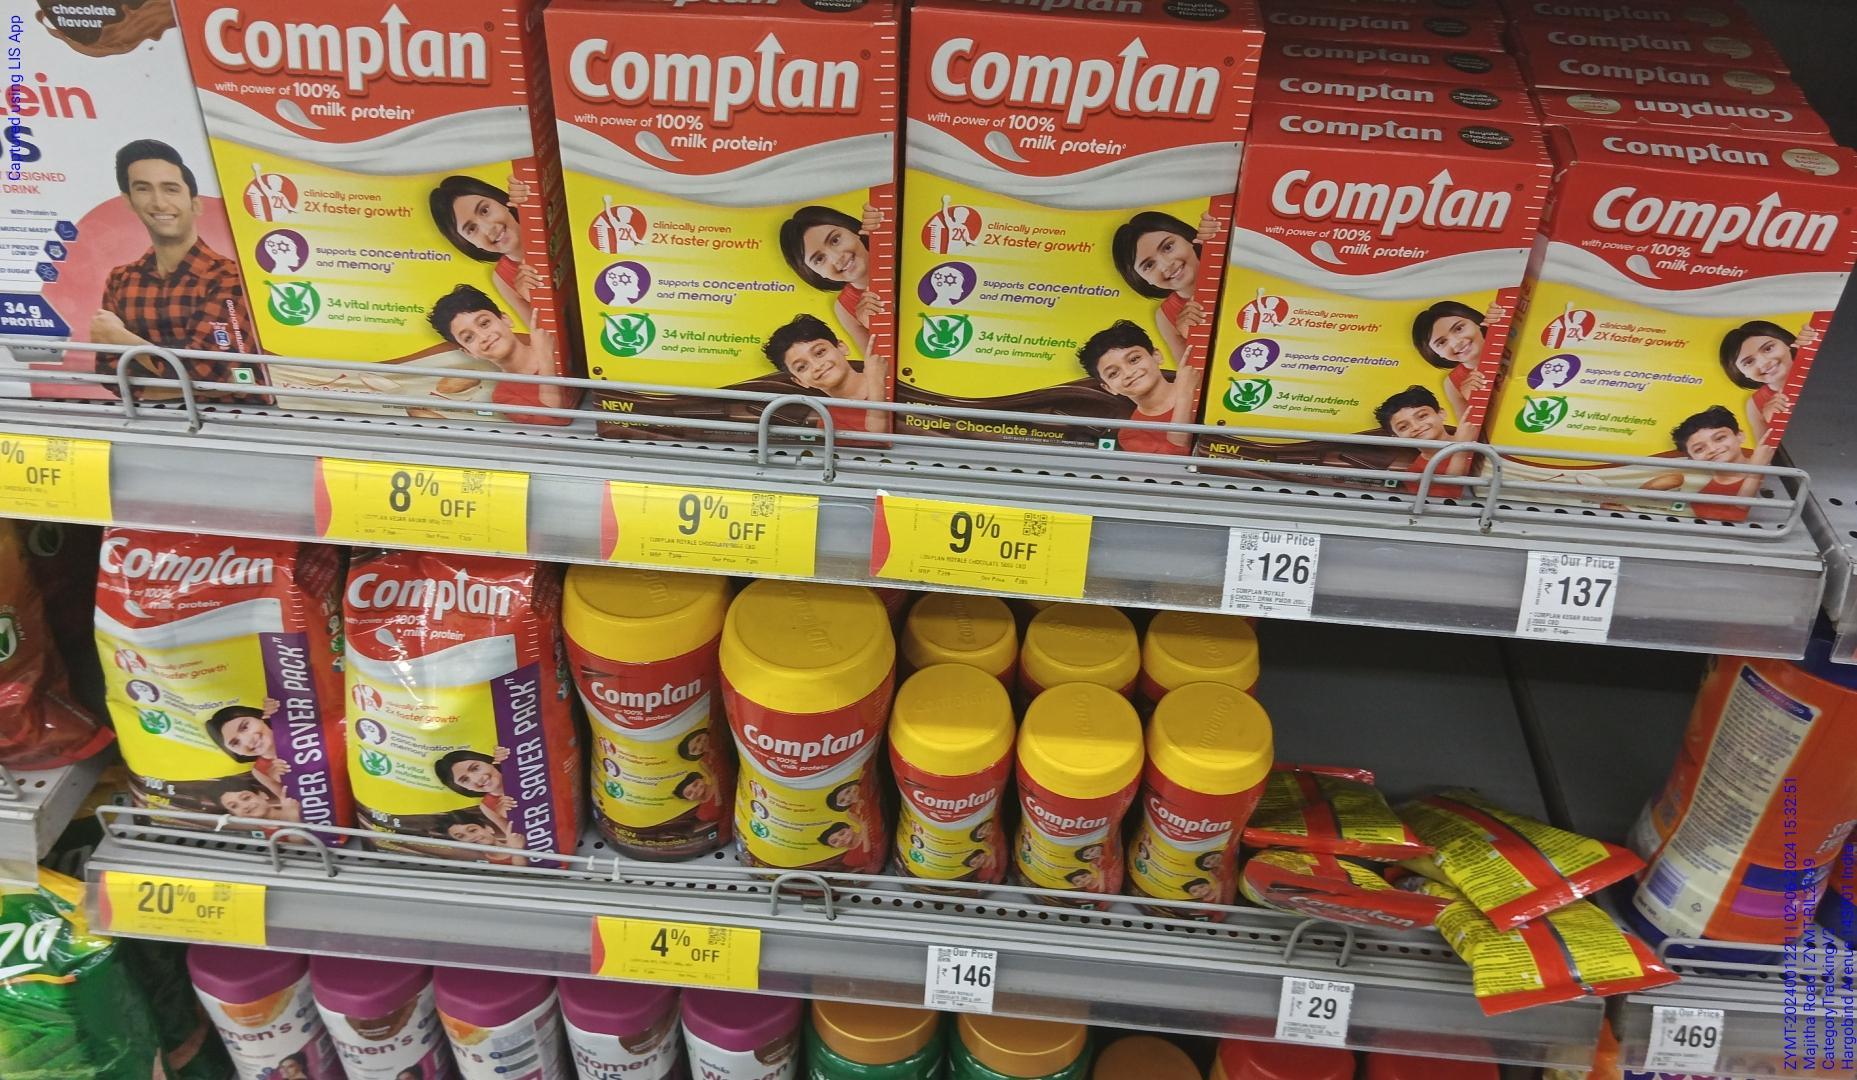COMPLAN_CHOCOLATE_200_GMS_JAR: (1140, 689, 1254, 922), (893, 696, 1011, 897), (1019, 707, 1128, 914)
COMPLAN_CHOCOLATE_500_GMS_JAR: (569, 591, 722, 858), (731, 635, 885, 890)
COMPLAN_KESAR_BADAM_200_GMS_PACK: (1528, 165, 1838, 514)
COMPLAN_RC_POUCH_700_GMS_12: (99, 531, 330, 859), (344, 552, 556, 886)
